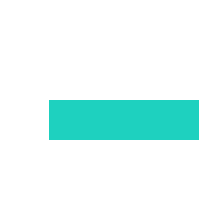rectangle: (49, 100, 198, 139)
